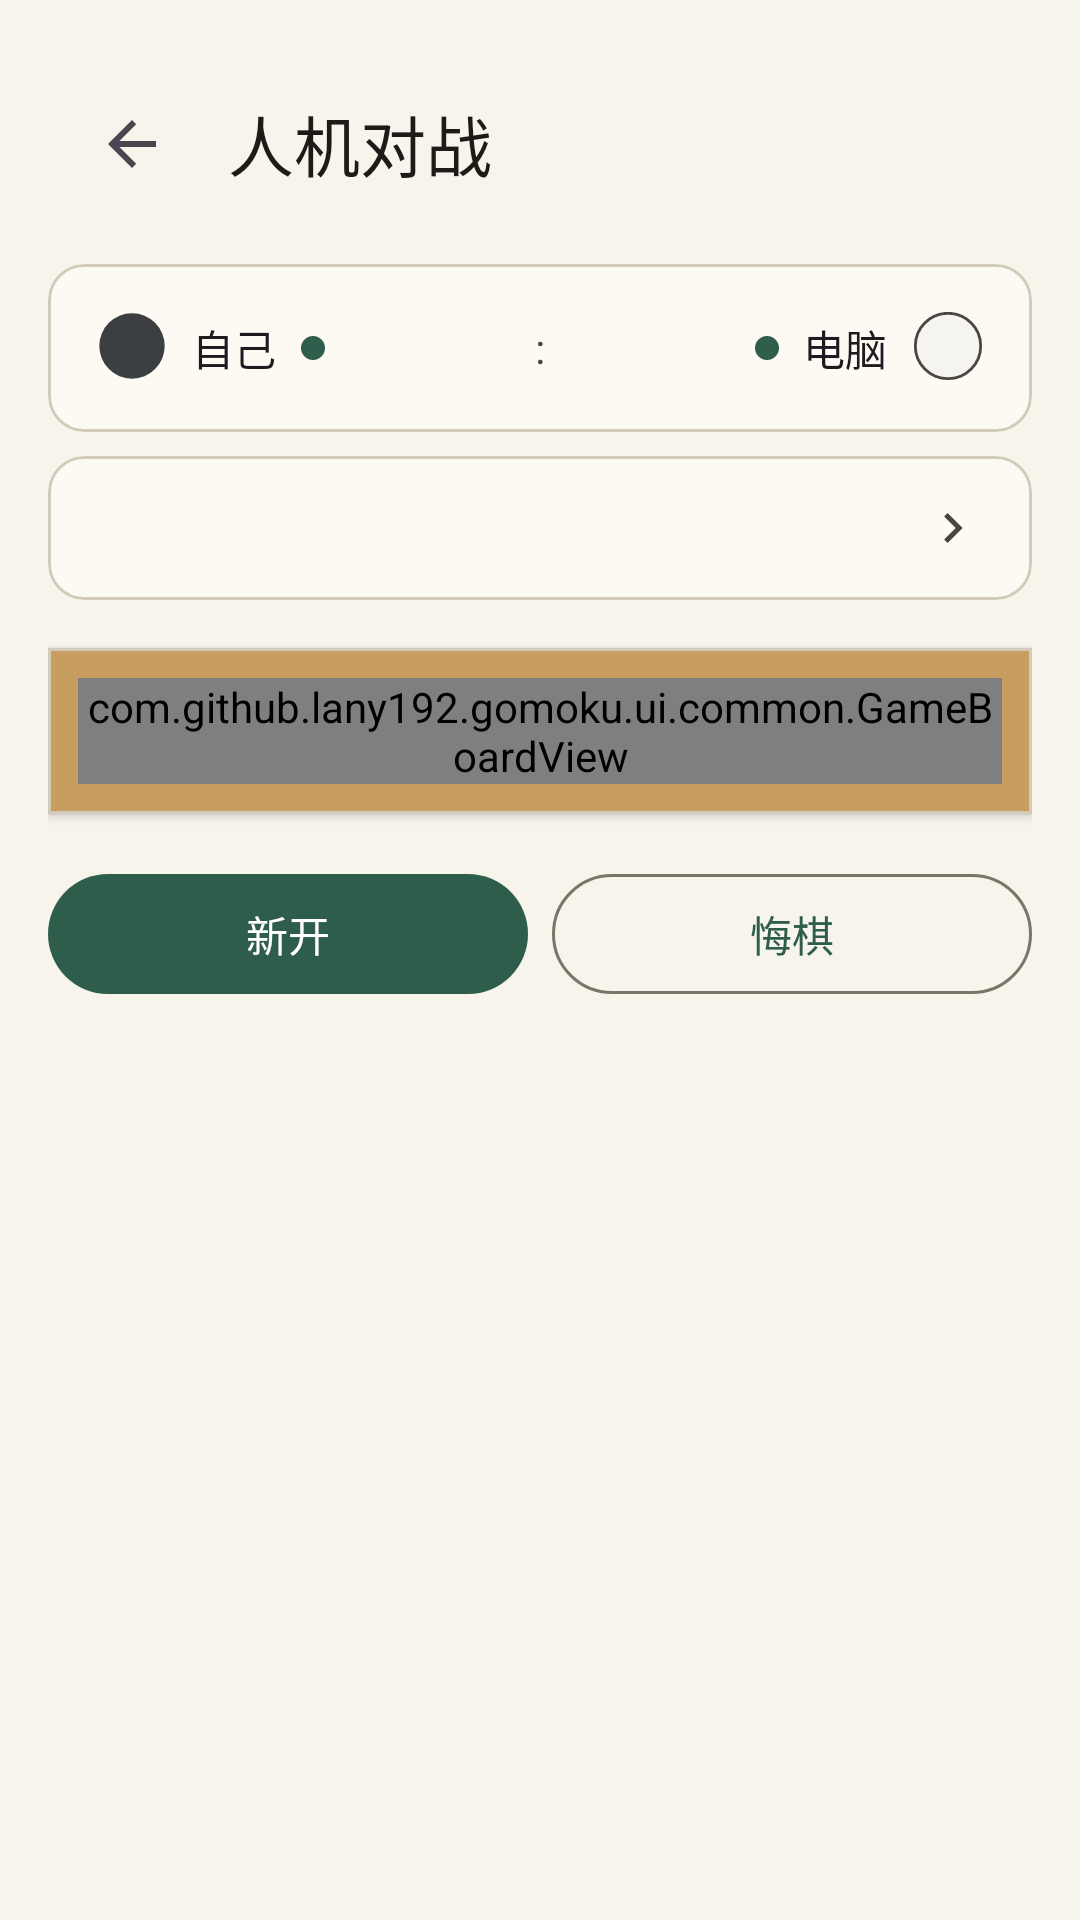

Icons on this 1080px x 1920px Android screen, each with its box as (x1, y1, x2, y2):
chevron right: (944, 513, 963, 543)
dot: (301, 336, 325, 360), (755, 336, 779, 360)
